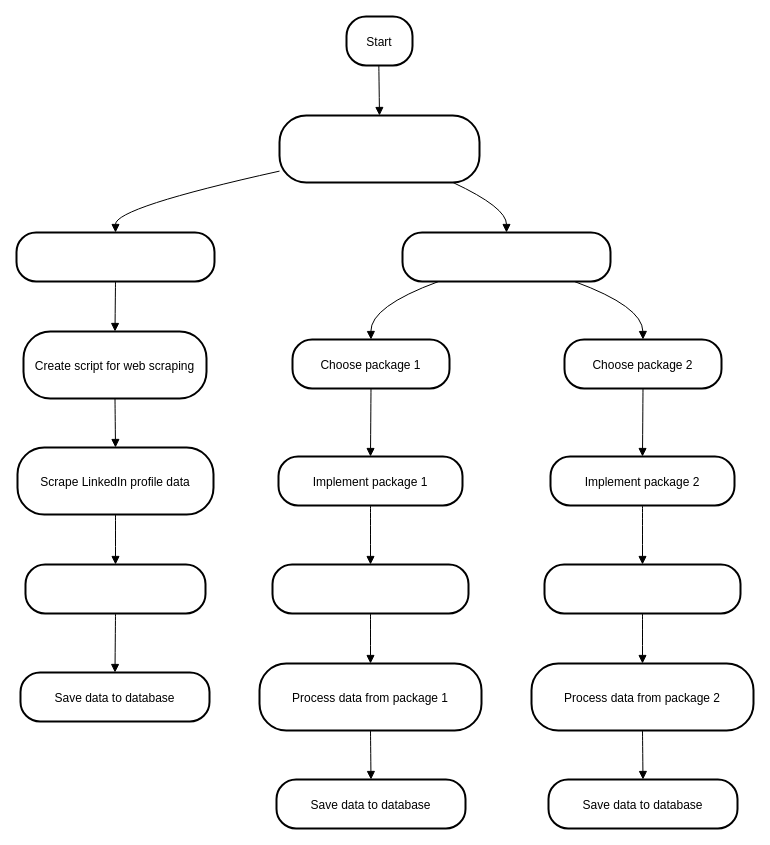
This 770x845 diagram has some shape labels left out. The shapes that lost their labels are listed below. From the top down, each one's centre as x and y in pixels, then its label:
At point 379,148: "Extract LinkedIn profile information".
At point 115,256: "Build web scraping tool".
At point 506,256: "Use 2 different packages".
At point 115,588: "Process scraped data".
At point 370,588: "Scrape using package 1".
At point 642,588: "Scrape using package 2".
